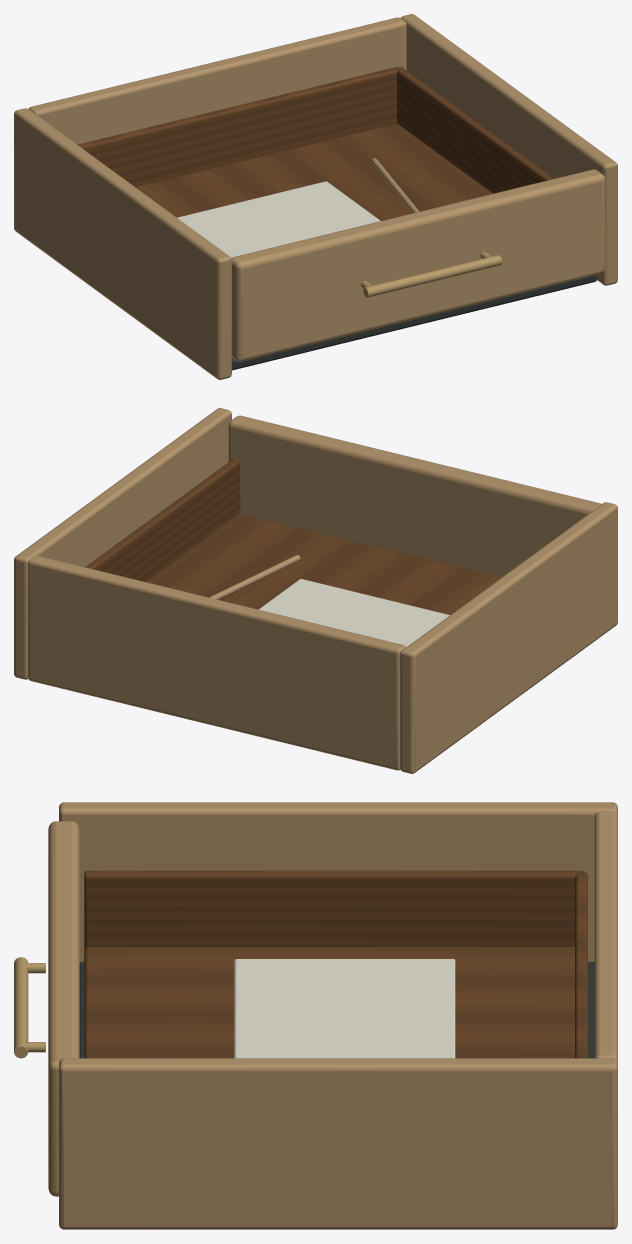
Rendered from drawer.glb.
3 views of the same model, one above another, from view 1: azimuth 30°, elevation 25°; view 2: azimuth 150°, elevation 25°; view 3: azimuth 270°, elevation 25° (orthographic). The views are drawn at different scales.
Parts seen in each view (by area): view 1: drawer / Desk oak edge, drawer / Oiled walnut, drawer / Desk oak edge.001, drawer / Ivory note paper, drawer / Warm graphite steel, DrawerPull_web; view 2: drawer / Desk oak edge, drawer / Desk oak edge.001, drawer / Oiled walnut, drawer / Ivory note paper; view 3: drawer / Desk oak edge, drawer / Oiled walnut, drawer / Ivory note paper, drawer / Desk oak edge.001, DrawerPull_web, drawer / Warm graphite steel.
Part boxes in pixels (x1,y1,x2,y2): drawer / Desk oak edge: (14,14,617,379); drawer / Oiled walnut: (77,67,553,220); drawer / Desk oak edge.001: (231,158,605,361); drawer / Ivory note paper: (177,181,380,257); drawer / Warm graphite steel: (232,275,596,370); DrawerPull_web: (363,255,502,297); drawer / Desk oak edge: (14,408,617,773); drawer / Desk oak edge.001: (209,415,601,599); drawer / Oiled walnut: (85,459,501,614); drawer / Ivory note paper: (258,579,449,646); drawer / Desk oak edge: (59,802,617,1229); drawer / Oiled walnut: (84,870,587,1058); drawer / Ivory note paper: (234,959,455,1058); drawer / Desk oak edge.001: (48,821,79,1196); DrawerPull_web: (14,957,28,1058); drawer / Warm graphite steel: (79,962,594,1058).
Size of the model in its own units: 0.484 by 0.14 by 0.4645.
5 materials, 1 textured.
